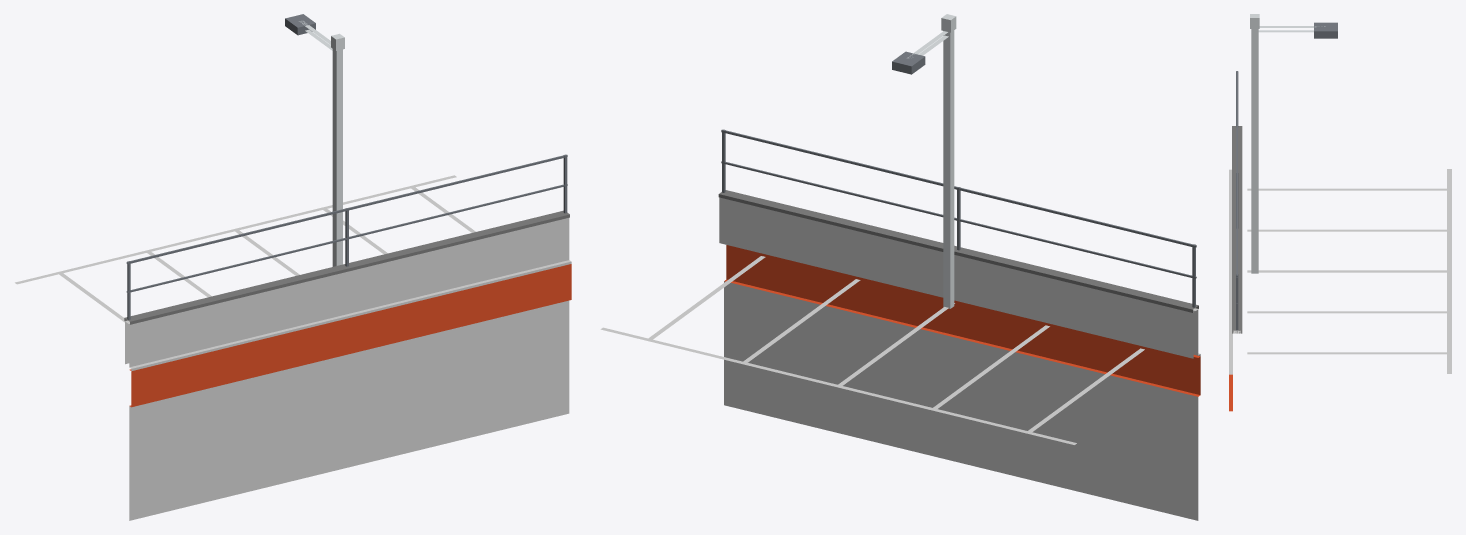
The model's file is top-w1.fbx.
3 views of the same model, side by side, from view 1: azimuth 30°, elevation 25°; view 2: azimuth 150°, elevation 25°; view 3: azimuth 270°, elevation 25° (orthographic). The views are drawn at different scales.
Parts seen in each view (by area): view 1: a2008/0/top-w1; view 2: a2008/0/top-w1; view 3: a2008/0/top-w1.
Part boxes in pixels (<box>): a2008/0/top-w1: <box>15,14,571,520</box>; a2008/0/top-w1: <box>600,14,1200,520</box>; a2008/0/top-w1: <box>1229,14,1451,411</box>.
Size of the model in its own units: 12 by 11 by 5.52.
